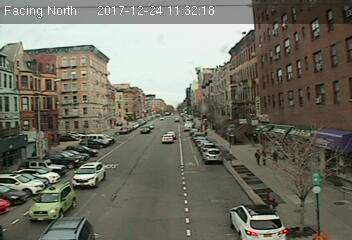car: (228, 200, 288, 240), (26, 184, 76, 220), (71, 162, 106, 188), (203, 148, 222, 162), (161, 134, 174, 144)
pedestrian: (253, 149, 261, 166)
